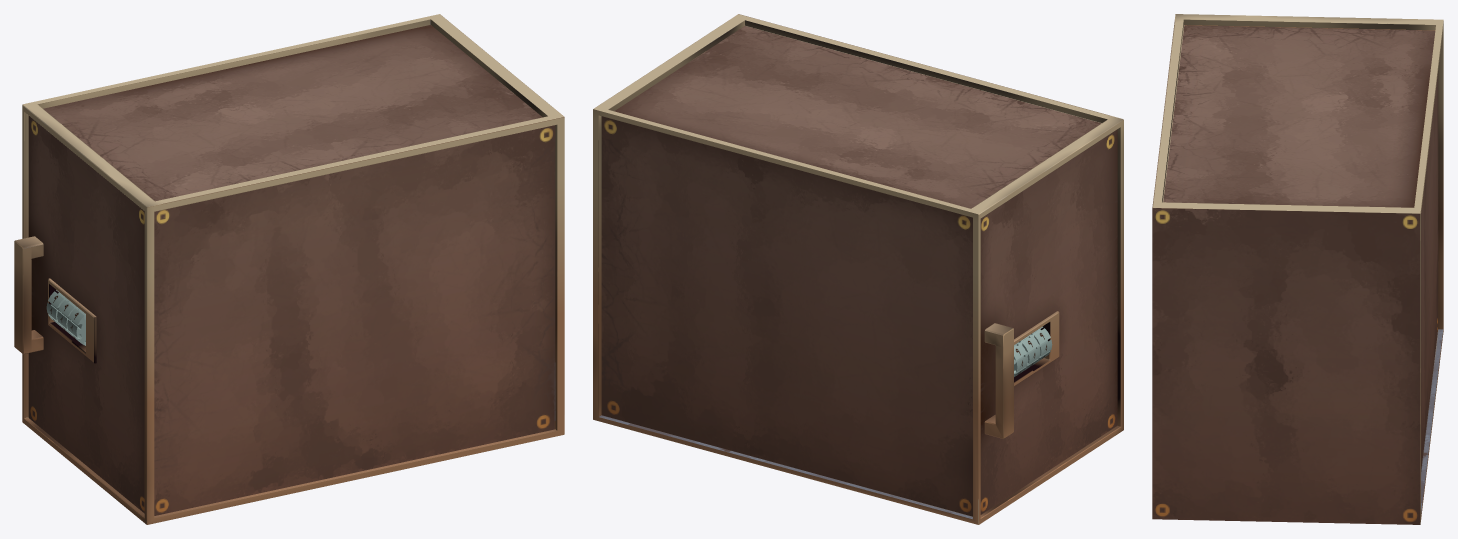
Rendered from coffre_cadenas.fbx.
3 renders of one model, left to right at view 1: azimuth 30°, elevation 25°; view 2: azimuth 150°, elevation 25°; view 3: azimuth 270°, elevation 25°, orthographic. The views are drawn at different scales.
Parts seen in each view (by area): view 1: coffre, porte_coffre; view 2: coffre, porte_coffre; view 3: coffre.
Part boxes in pixels (x1,y1,x2,y2): coffre: [22, 14, 564, 524]; porte_coffre: [14, 116, 144, 513]; coffre: [593, 14, 1123, 524]; porte_coffre: [980, 129, 1117, 514]; coffre: [1152, 14, 1443, 524].
Bounding box in the file's own units: 0.8613 × 0.6169 × 0.5231.
